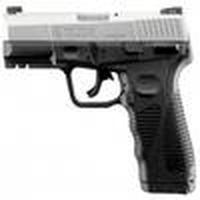gun: (1, 6, 200, 196)
